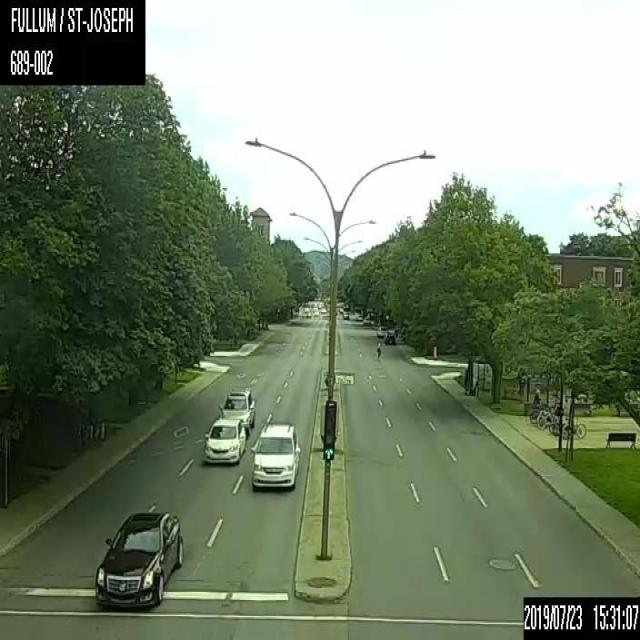pedestrian: (463, 367, 472, 396), (375, 337, 382, 360), (532, 388, 541, 403)
vehicle: (92, 509, 184, 611), (249, 418, 302, 491), (202, 417, 245, 464), (218, 385, 255, 436), (383, 327, 396, 344), (363, 315, 372, 325), (343, 310, 349, 318)
